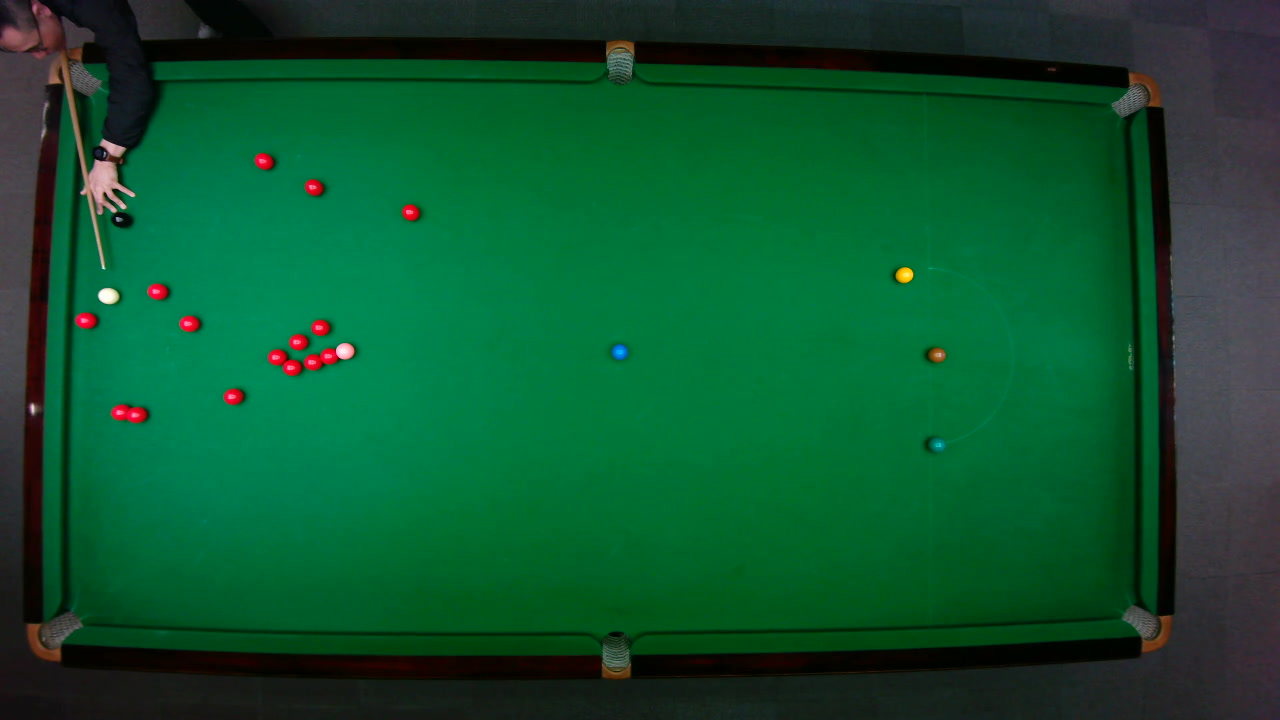bag: (25, 609, 84, 662), (46, 47, 102, 96), (1119, 603, 1171, 652), (1108, 71, 1162, 118), (600, 629, 630, 680), (605, 38, 633, 85)
black: (109, 210, 131, 228)
blue: (610, 342, 628, 360)
brown: (926, 346, 946, 362)
cue: (61, 37, 106, 276)
green: (926, 435, 946, 452)
pink: (334, 341, 355, 360)
red: (123, 404, 148, 423), (145, 282, 169, 300), (222, 386, 244, 405), (109, 402, 131, 421), (177, 314, 200, 332), (73, 311, 97, 328), (253, 151, 274, 170), (302, 352, 324, 370), (400, 202, 420, 221), (281, 358, 302, 376), (303, 177, 324, 195), (287, 332, 308, 350), (265, 348, 287, 365), (319, 346, 338, 365), (309, 318, 330, 335)
white: (96, 285, 120, 304)
yellow: (894, 265, 914, 283)
zone: (927, 266, 1013, 445)
